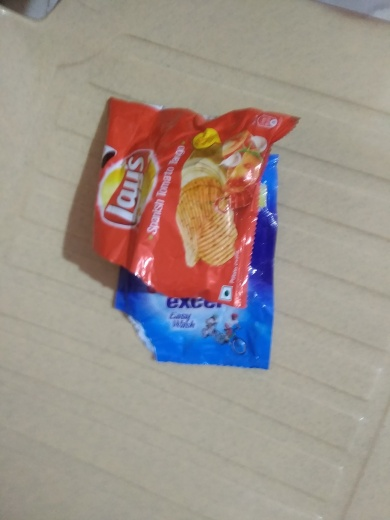lays: (82, 86, 294, 299)
surf: (119, 156, 286, 369)
